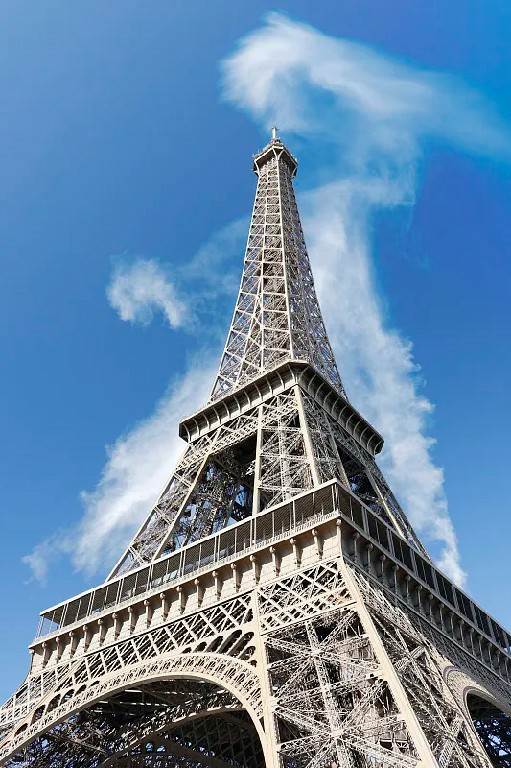Eiffel: (1, 126, 511, 768)
